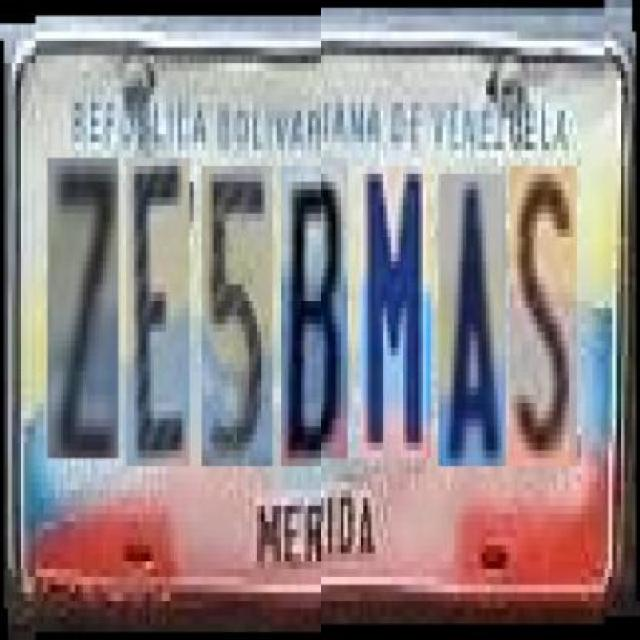5: (202, 158, 272, 458)
a: (439, 173, 506, 467)
b: (281, 158, 347, 458)
e: (126, 150, 189, 458)
m: (360, 166, 431, 460)
s: (509, 166, 577, 466)
z: (48, 150, 119, 450)
